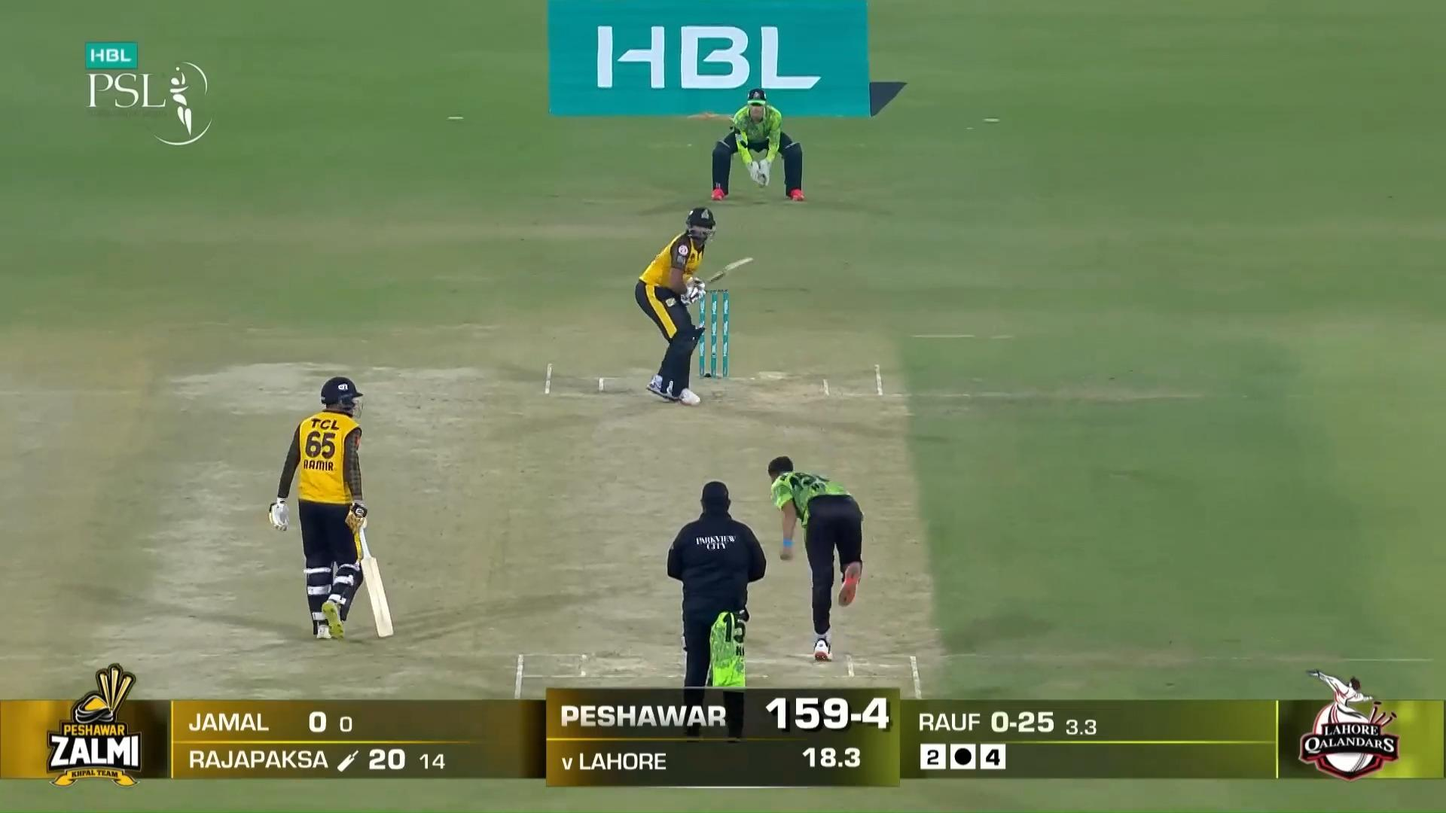batsman: (634, 207, 753, 408)
